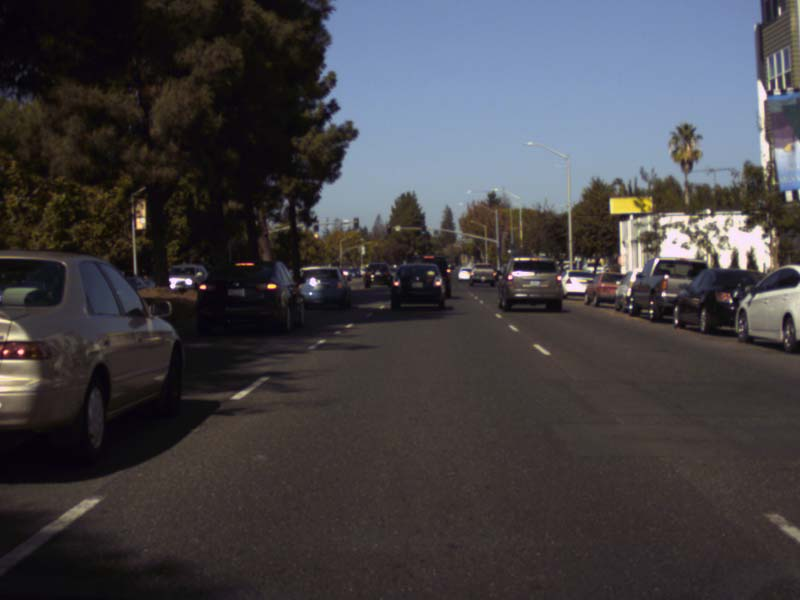Green: (420, 226, 425, 234)
Red: (386, 224, 391, 233)
